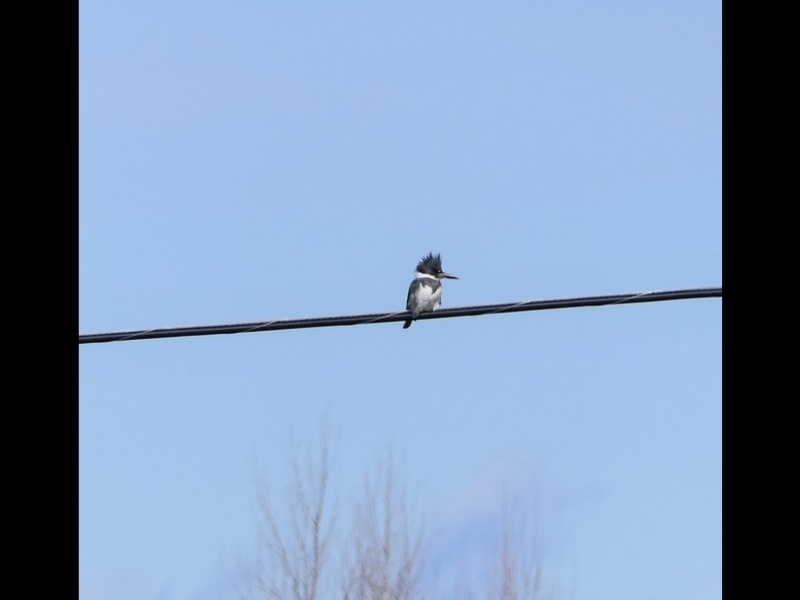kingfisher: (405, 251, 460, 329)
